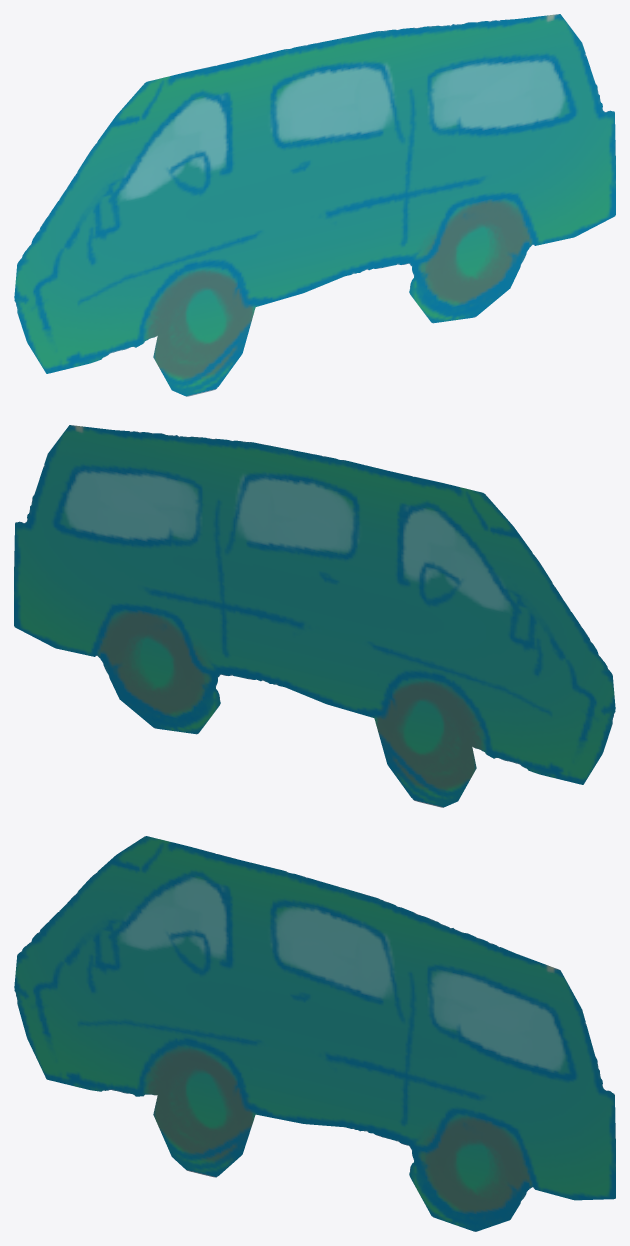
The model's file is house_3_car.fbx.
3 renders of one model, top to bottom at view 1: azimuth 30°, elevation 25°; view 2: azimuth 150°, elevation 25°; view 3: azimuth 330°, elevation 25°, orthographic.
Visible parts, largest first — view 1: mask11; view 2: mask11; view 3: mask11.
Part boxes in pixels (bbox=[...]): mask11: bbox=[14, 14, 615, 396]; mask11: bbox=[14, 425, 615, 807]; mask11: bbox=[14, 836, 615, 1231].
Bounding box in the file's own units: 6.62 × 3.41 × 0.
1 material, 1 textured.
